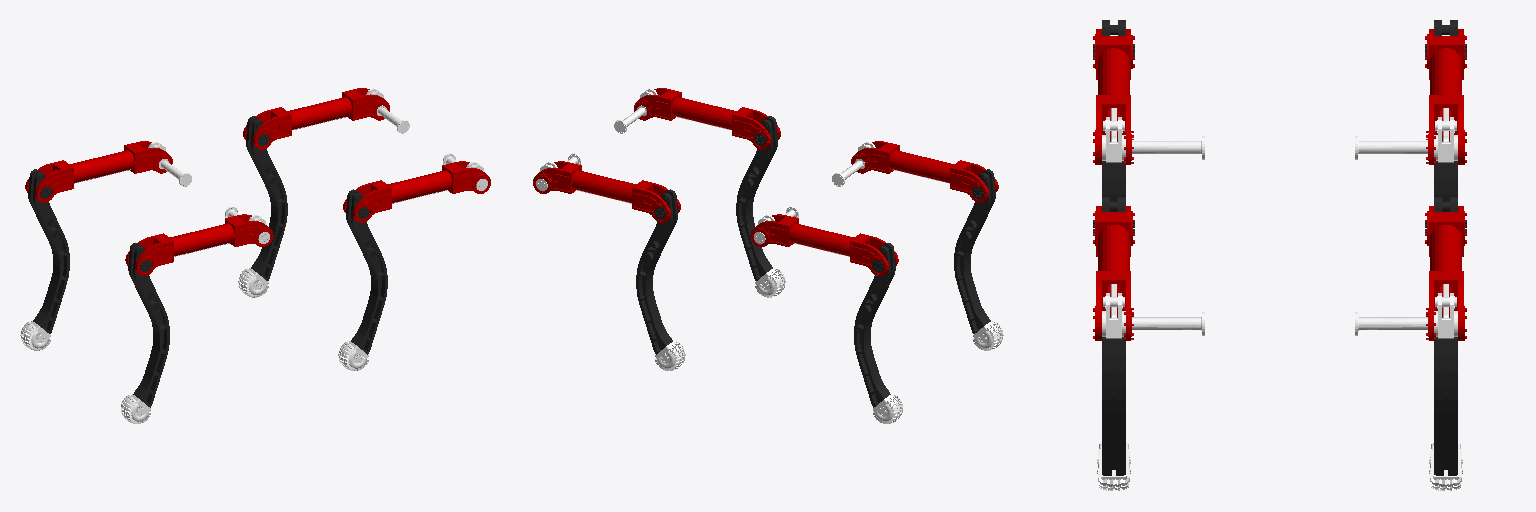
--- What the picture shows (computed from the rendered views, not written in the file) ---
The picture shows the robot from 3 angles, left to right: view 1: azimuth 30°, elevation 25°; view 2: azimuth 150°, elevation 25°; view 3: azimuth 270°, elevation 25°; orthographic projection.
Model aidin8 with 25 links and 24 joints (12 revolute, 12 fixed), rooted at body, posed every joint at zero.
Links seen in each view (by area): view 1: RF_2, RB_2, LF_2, LB_2, RF_3, RB_3, LB_3, LF_3, LB_foot, RF_foot, RB_foot, LF_foot; view 2: LF_2, LB_2, RF_2, RB_2, LF_3, LB_3, RB_3, RF_3, RB_foot, LF_foot, LB_foot, RF_foot; view 3: LB_2, RB_2, RF_2, LF_2, RF_3, LF_3, RF_link1, LF_link1, LB_link1, RB_link1, LB_3, RB_3 (+2 smaller).
Boxes of the visible links, x1,y1,x2,y2 form: RF_2: (343, 161, 490, 222); RB_2: (125, 214, 273, 275); LF_2: (243, 88, 389, 149); LB_2: (25, 141, 172, 202); RF_3: (346, 189, 387, 354); RB_3: (128, 243, 169, 407); LB_3: (28, 169, 69, 333); LF_3: (246, 116, 287, 280); LB_foot: (20, 321, 50, 350); RF_foot: (338, 341, 368, 370); RB_foot: (121, 394, 150, 423); LF_foot: (238, 268, 268, 297); LF_2: (533, 161, 680, 222); LB_2: (750, 214, 898, 275); RF_2: (634, 88, 780, 149); RB_2: (851, 141, 998, 202); LF_3: (636, 189, 677, 354); LB_3: (854, 243, 895, 407); RB_3: (954, 169, 995, 333); RF_3: (736, 116, 777, 280); RB_foot: (973, 321, 1003, 350); LF_foot: (655, 341, 685, 370); LB_foot: (873, 394, 902, 423); RF_foot: (755, 268, 785, 297); LB_2: (1425, 29, 1466, 164); RB_2: (1093, 29, 1134, 164); RF_2: (1093, 206, 1134, 340); LF_2: (1425, 206, 1466, 340); RF_3: (1093, 197, 1134, 475); LF_3: (1425, 197, 1466, 475); RF_link1: (1102, 293, 1204, 338); LF_link1: (1355, 293, 1457, 338); LB_link1: (1355, 117, 1457, 162); RB_link1: (1102, 117, 1204, 162); LB_3: (1425, 20, 1466, 211); RB_3: (1093, 20, 1134, 211).
Bounding box of the posed robot: 1.07 × 0.5794 × 0.5016 m (x, y, z).
20 mesh visuals loaded from 12 distinct referenced files (7 binary STL); not drawn: 5 (reference not matched to a file when rendering).

robot.urdf — aidin8:
<?xml version="1.0" ?>
<robot name="aidin8">
  <material name="black">
    <color rgba="0.0 0.0 0.0 1.0"/>
  </material>
  <material name="blue">
    <color rgba="0.0 0.0 0.8 1.0"/>
  </material>
  <material name="green">
    <color rgba="0.0 0.8 0.0 1.0"/>
  </material>
  <material name="grey">
    <color rgba="0.2 0.2 0.2 1.0"/>
  </material>
  <material name="silver">
    <color rgba="0.913725490196 0.913725490196 0.847058823529 1.0"/>
  </material>
  <material name="orange">
    <color rgba="1.0 0.423529411765 0.0392156862745 1.0"/>
  </material>
  <material name="brown">
    <color rgba="0.870588235294 0.811764705882 0.764705882353 1.0"/>
  </material>
  <material name="red">
    <color rgba="0.8 0.0 0.0 1.0"/>
  </material>
  <material name="yellow">
    <color rgba="0.8 0.8 0.0 1.0"/>
  </material>
  <material name="white">
    <color rgba="1.0 1.0 1.0 1.0"/>
  </material>

<!--////////////////////////////////   Body    ////////////////////////////////-->
  <link name="body">
    <inertial>
      <mass value="12.3188555"/>
      <origin xyz="0.00142 -0.00222 -0.04319" rpy="0 0 0"/>
      <inertia ixx="0.1104557116459" ixy="0.0002742627834" ixz="-0.0007826805716" iyy="0.2925866863396" iyz="-0.0018014327089" izz="0.3259809298915"/>
    </inertial>
<!--    <collision name="body_1">-->
<!--      <origin xyz="0.4174 0     0" rpy="0 0 0"/>-->
<!--      <geometry>-->
<!--        <box size="0.026 0.318 0.207"/>-->
<!--      </geometry>-->
<!--    </collision>-->
<!--    <collision name="body_2">-->
<!--      <origin xyz="-0.4174  0      0" rpy="0 0 0"/>-->
<!--      <geometry>-->
<!--        <box size="0.026 0.318 0.207"/>-->
<!--      </geometry>-->
<!--    </collision>-->
<!--    <collision name="body_3">-->
<!--      <origin xyz="0    0.119 0.085" rpy="0      1.57079 0"/>-->
<!--      <geometry>-->
<!--        <cylinder radius="0.0102" length="0.8848"/>-->
<!--      </geometry>-->
<!--    </collision>-->
<!--    <collision name="body_4">-->
<!--      <origin xyz="0     0.119 -0.085" rpy="0      1.57079 0"/>-->
<!--      <geometry>-->
<!--        <cylinder radius="0.0102" length="0.8848"/>-->
<!--      </geometry>-->
<!--    </collision>-->
<!--    <collision name="body_5">-->
<!--      <origin xyz="0    -0.119  0.085" rpy="0      1.57079 0"/>-->
<!--      <geometry>-->
<!--        <cylinder radius="0.0102" length="0.8848"/>-->
<!--      </geometry>-->
<!--    </collision>-->
<!--    <collision name="body_6">-->
<!--      <origin xyz="0    -0.119 -0.085" rpy="0      1.57079 0"/>-->
<!--      <geometry>-->
<!--        <cylinder radius="0.0102" length="0.8848"/>-->
<!--      </geometry>-->
<!--    </collision>-->
    <collision name="body_7" >
      <origin xyz="0 0 0" rpy="0 0 0"/>
      <geometry>
        <mesh filename="../meshes/meshes_surface/Body_AIDIN8.STL" scale="1 1 1"/>
      </geometry>
    </collision>
    <visual name="body_visual">
      <origin xyz="0 0 0" rpy="0 0 0"/>
      <geometry>
        <mesh filename="../meshes/meshes_surface/Body_AIDIN8.STL" scale="1 1 1"/>
      </geometry>
      <material name="silver"/>
    </visual>
  </link>

<!--//////////////////////////////// RF LINKS /////////////////////////////////-->

  <link name="RF_1">
    <inertial>
      <mass value="6.3549628"/>
      <origin xyz="2.22e-03 -7.00e-05 -3.49e-02" rpy="0 0 0"/>
      <inertia ixx="0.0268838092963" ixy="-0.0000090031909" ixz="0.0010319405579" iyy="0.0388589753376" iyz="0.0000168509340" izz="0.0189992476926"/>
    </inertial>
    <collision name="RF_col1">
      <origin xyz="0      0     -0.0507" rpy="0 0 0"/>
      <geometry>
        <cylinder radius="0.0535" length="0.2334"/>
      </geometry>
    </collision>
    <collision name="RF_col2">
      <origin xyz="0.0083 0     0" rpy="0      1.57079 0"/>
      <geometry>
        <cylinder radius="0.0535" length="0.1984"/>
      </geometry>
    </collision>
    <visual name="RF_1_vis">
      <origin xyz="0 0 0" rpy="0 0 0"/>
      <geometry>
        <mesh filename="../meshes/meshes_surface/Leg_Scapular_RF_stp_v2.STL" scale="1 1 1"/>
      </geometry>
      <material name="black"/>
    </visual>
  </link>

  <link name="RF_2">
    <inertial>
      <mass value="0.8592967"/>
      <origin xyz="1.75316e-01 -1.49727e-02 1.2510e-04" rpy="0 0 0"/>
      <inertia ixx="0.0007326198866" ixy="0.0000038940144" ixz="-0.0000188175364" iyy="0.0157450190455" iyz="0.0000015777233" izz="0.0157308802469"/>
    </inertial>
    <collision name="RF_2_col">
      <origin xyz="0 0 0" rpy="0 0 0"/>
      <geometry>
        <mesh filename="../meshes/meshes_surface/Leg_Hip_right_stp.STL" scale="1 1 1"/>
      </geometry>
    </collision>
<!--    <collision name="RF_col3">-->
<!--      <origin xyz="0 0 0" rpy="0 0 0"/>-->
<!--      <geometry>-->
<!--        <cylinder radius="0.027" length="0.054"/>-->
<!--      </geometry>-->
<!--    </collision>-->
<!--    <collision name="RF_col4">-->
<!--      <origin xyz="0.055 -0.021  0" rpy="0 0 0"/>-->
<!--      <geometry>-->
<!--        <box size="0.06 0.06 0.054"/>-->
<!--      </geometry>-->
<!--    </collision>-->
<!--    <collision name="RF_col5">-->
<!--      <origin xyz="0.175 -0.021  0" rpy="0      1.57079 0"/>-->
<!--      <geometry>-->
<!--        <cylinder radius="0.025" length="0.18"/>-->
<!--      </geometry>-->
<!--    </collision>-->
<!--    <collision name="RF_col6">-->
<!--      <origin xyz="0.295 -0.021  0" rpy="0 0 0"/>-->
<!--      <geometry>-->
<!--        <box size="0.06 0.06 0.054"/>-->
<!--      </geometry>-->
<!--    </collision>-->
<!--    <collision name="RF_col7">-->
<!--      <origin xyz="0.35   0     0.0245" rpy="0 0 0"/>-->
<!--      <geometry>-->
<!--        <cylinder radius="0.027" length="0.011"/>-->
<!--      </geometry>-->
<!--    </collision>-->
<!--    <collision name="RF_col8">-->
<!--      <origin xyz="0.35    0     -0.0245" rpy="0 0 0"/>-->
<!--      <geometry>-->
<!--        <cylinder radius="0.027" length="0.011"/>-->
<!--      </geometry>-->
<!--    </collision>-->
    <visual name="RF_2_vis">
      <origin xyz="0 0 0" rpy="0 0 0"/>
      <geometry>
        <mesh filename="../meshes/meshes_surface/Leg_Hip_right_stp.STL" scale="1 1 1"/>
      </geometry>
      <material name="red"/>
    </visual>
  </link>

  <link name="RF_3">
    <inertial>
      <mass value="1.0898094"/>
      <origin xyz="0.1800139 0.0211379 0" rpy="0 0 0"/>
      <inertia ixx="0.0011170724779" ixy="0.0013927896194" ixz="-0.0000000006471" iyy="0.028702148538" iyz="-0.0000000000318" izz="0.0294755353979"/>
    </inertial>
    <collision name="RF_col9">
      <origin rpy="0       0       0.41887" xyz="0.10075  0.02555  0"/>
      <geometry>
        <box size="0.17 0.035 0.036"/>
      </geometry>
    </collision>
    <collision name="RF_col10">
      <origin rpy="0       0       0.05925" xyz="0.21091  0.0609   0"/>
      <geometry>
        <box size="0.0771692 0.035 0.036"/>
      </geometry>
    </collision>
    <collision name="RF_col11">
      <origin rpy="0       0      -0.34906" xyz="0.32234  0.03518  0"/>
      <geometry>
        <box size="0.17 0.035 0.036"/>
      </geometry>
    </collision>
<!--    <collision name="RF_col9">-->
<!--      <origin rpy="0  0  0" xyz="0  0  0"/>-->
<!--      <geometry>-->
<!--        <mesh filename="../meshes/meshes_surface/Leg_Knee_stp.STL" scale="1 1 1"/>-->
<!--      </geometry>-->
<!--    </collision>-->
    <visual name="RF_3_vis">
      <origin xyz="0 0 0" rpy="0 0 0"/>
<!--      <geometry>-->
<!--        <mesh filename="../meshes/meshes_surface/leg_foot.STL" scale="1 1 1"/>-->
<!--      </geometry>-->
      <geometry>
        <mesh filename="../meshes/meshes_surface/Leg_Knee_stp.STL" scale="1 1 1"/>
      </geometry>
      <material name="grey"/>
    </visual>
  </link>

  <link name="RF_link1">
    <inertial>
      <mass value="0.356529"/>
      <origin xyz="0.00726 -0.00049 -0.03152" rpy="0 0 0"/>
      <inertia ixx="0.0009737671712" ixy="0.0000021895727" ixz="0.0000821138402" iyy="0.0010410742162" iyz="-0.0000057093198" izz="0.0001183464867"/>
    </inertial>
    <visual name="RF_link1_vis">
      <origin xyz="0 0 0" rpy="0 0 0"/>
      <geometry>
        <mesh filename="../meshes/meshes_surface/Knee_link1_right_stp.STL" scale="1 1 1"/>
      </geometry>
      <material name="white"/>
    </visual>
  </link>

  <link name="RF_link2">
    <inertial>
      <mass value="0.20931"/>
      <origin xyz="0.175 0    0" rpy="0 0 0"/>
      <inertia ixx="0.00000747991" ixy="0" ixz="0" iyy="0.00238918720" iyz="0" izz="0.00239407889"/>
    </inertial>
    <visual name="RF_link2_vis">
      <origin xyz="0    0    0" rpy="0    0    0"/>
      <geometry>
        <mesh filename="../meshes/meshes_surface/Knee_link2_stp.STL" scale="1 1 1"/>
      </geometry>
      <material name="white"/>
    </visual>
  </link>

  <link name="RF_foot">
    <inertial>
      <mass value="0.01415138"/>
      <inertia ixx="0.0000730244206" ixy="0.0000118580755" ixz="-0.000000000074" iyy="0.000072839443" iyz="-0.0000000000768" izz="0.0000859159859"/>
    </inertial>
    <collision name="RF_col12">
      <origin rpy="0  0  0" xyz="0  0   0"/>
      <geometry>
        <mesh filename="../meshes/meshes_surface/foot.STL" scale="1 1 1"/>
      </geometry>
    </collision>
    <visual name="RF_foot_vis">
      <origin rpy="0  0  0" xyz="0  0   0"/>
      <geometry>
        <mesh filename="../meshes/meshes_surface/foot.STL" scale="1 1 1"/>
      </geometry>
      <material name="white"/>
    </visual>
  </link>

<!--//////////////////////////////// RF JOINTS ////////////////////////////////-->

  <joint name="RFJ1" type="revolute">
    <parent link="body"/>
    <child link="RF_1"/>
    <origin xyz="0.3224 -0.119   0" rpy="-1.57079  0      -1.57079"/>
    <axis xyz="0 0 1"/>
<!--    <limit lower="-0.6981317008" upper="0.6981317008" effort="200.0" velocity="15.5"/>-->
    <limit lower="-0.3" upper="0.3" effort="200.0" velocity="15.5"/>
  </joint>

  <joint name="RFJ2" type="revolute">
    <parent link="RF_1"/>
    <child link="RF_2"/>
    <origin xyz="0.13769 0      0" rpy="-1.58259  1.57079 -1.58259"/>
    <axis xyz="0 0 1"/>
    <limit lower="-3.1" upper="3.1" effort="200.0" velocity="15.5"/>
  </joint>

  <joint name="RFJ3" type="revolute">
    <parent link="RF_2"/>
    <child link="RF_3"/>
    <origin xyz="0.35 0   0" rpy="0      0      1.57079"/>
    <axis xyz="0 0 1"/>
<!--    <limit lower="-1.047197551" upper="1.570796327" effort="200.0" velocity="15.5"/>-->
    <limit lower="-1.04" upper="1.1" effort="200.0" velocity="15.5"/>
  </joint>

  <joint name="RFJ_link1" type="fixed"> <!--revolute -> fixed-->
    <parent link="RF_1"/>
    <child link="RF_link1"/>
    <origin xyz="0.13769 0      0" rpy="-1.57079  0.17453 -1.57079"/>
    <axis xyz="0 0 1"/>
  </joint>

  <joint name="RFJ_link2" type="fixed"> <!--revolute -> fixed-->
    <parent link="RF_2"/>
    <child link="RF_link2"/>
    <origin xyz="0    0    0" rpy="0    0    0"/>
    <axis xyz="0 0 1"/>
  </joint>

  <joint name="RFJ_foot" type="fixed" dont_collapse="true"> <!--revolute -> fixed-->
    <parent link="RF_3"/>
    <child link="RF_foot"/>
    <origin rpy="0 0 0" xyz="0.4 0 0"/>
    <axis xyz="0 0 1"/>
  </joint>

<!--//////////////////////////////// LF LINKS /////////////////////////////////-->

  <link name="LF_1">
    <inertial>
      <mass value="6.3549628"/>
      <origin xyz="0.00223 -0.00011 -0.03491" rpy="0 0 0"/>
      <inertia ixx="0.0268822823205" ixy="0.0000315138420" ixz="-0.0010398645982" iyy="0.0388571979436" iyz="-0.0000013704590" izz="0.01899889911081"/>
    </inertial>
    <collision name="LF_col1">
      <origin xyz="0      0     -0.0507" rpy="0 0 0"/>
      <geometry>
        <cylinder radius="0.0535" length="0.2334"/>
      </geometry>
    </collision>
    <collision name="LF_col2">
      <origin xyz="0.0083 0     0" rpy="0      1.57079 0"/>
      <geometry>
        <cylinder radius="0.0535" length="0.1984"/>
      </geometry>
    </collision>
    <visual name="LF_1_vis">
      <origin xyz="0 0 0" rpy="0 0 0"/>
      <geometry>
        <mesh filename="../meshes/meshes_surface/Leg_Scapular_LF_stp_v2.STL" scale="1 1 1"/>
      </geometry>
      <material name="black"/>
    </visual>
  </link>

  <link name="LF_2">
    <inertial>
      <mass value="0.8592967"/>
      <origin xyz="1.75316e-01 -1.49727e-02 -1.2510e-04" rpy="0 0 0"/>
      <inertia ixx="0.0007326198857" ixy="0.0000038940144" ixz="0.0000188178556" iyy="0.0157450190446" iyz="-0.0000015777889" izz="0.0157308802467"/>
    </inertial>
    <collision name="LF_2_col">
      <origin xyz="0 0 0" rpy="0 0 0"/>
      <geometry>
        <mesh filename="../meshes/meshes_surface/Leg_Hip_left_stp.STL" scale="1 1 1"/>
      </geometry>
    </collision>
<!--    <collision name="LF_col3">-->
<!--      <origin xyz="0 0 0" rpy="0 0 0"/>-->
<!--      <geometry>-->
<!--        <cylinder radius="0.027" length="0.054"/>-->
<!--      </geometry>-->
<!--    </collision>-->
<!--    <collision name="LF_col4">-->
<!--      <origin xyz="0.055 -0.021  0" rpy="0 0 0"/>-->
<!--      <geometry>-->
<!--        <box size="0.06 0.06 0.054"/>-->
<!--      </geometry>-->
<!--    </collision>-->
<!--    <collision name="LF_col5">-->
<!--      <origin xyz="0.175 -0.021  0" rpy="0      1.57079 0"/>-->
<!--      <geometry>-->
<!--        <cylinder radius="0.025" length="0.18"/>-->
<!--      </geometry>-->
<!--    </collision>-->
<!--    <collision name="LF_col6">-->
<!--      <origin xyz="0.295 -0.021  0" rpy="0 0 0"/>-->
<!--      <geometry>-->
<!--        <box size="0.06 0.06 0.054"/>-->
<!--      </geometry>-->
<!--    </collision>-->
<!--    <collision name="LF_col7">-->
<!--      <origin xyz="0.35   0     0.0245" rpy="0 0 0"/>-->
<!--      <geometry>-->
<!--        <cylinder radius="0.027" length="0.011"/>-->
<!--      </geometry>-->
<!--    </collision>-->
<!--    <collision name="LF_col8">-->
<!--      <origin xyz="0.35    0     -0.0245" rpy="0 0 0"/>-->
<!--      <geometry>-->
<!--        <cylinder radius="0.027" length="0.011"/>-->
<!--      </geometry>-->
<!--    </collision>-->
    <visual name="LF_2_vis">
      <origin xyz="0 0 0" rpy="0 0 0"/>
      <geometry>
        <mesh filename="../meshes/meshes_surface/Leg_Hip_left_stp.STL" scale="1 1 1"/>
      </geometry>
      <material name="red"/>
    </visual>
  </link>

  <link name="LF_3">
    <inertial>
      <mass value="1.0898094"/>
      <origin xyz="0.1800139 0.0211379 0" rpy="0 0 0"/>
      <inertia ixx="0.0011170724779" ixy="0.0013927896194" ixz="-0.0000000006471" iyy="0.028702148538" iyz="-0.0000000000318" izz="0.0294755353979"/>
    </inertial>
    <collision name="LF_col9">
      <origin rpy="0       0       0.41887" xyz="0.10075  0.02555  0"/>
      <geometry>
        <box size="0.17 0.035 0.036"/>
      </geometry>
    </collision>
    <collision name="LF_col10">
      <origin rpy="0       0       0.05925" xyz="0.21091  0.0609   0"/>
      <geometry>
        <box size="0.0771692 0.035 0.036"/>
      </geometry>
    </collision>
    <collision name="LF_col11">
      <origin rpy="0       0      -0.34906" xyz="0.32234  0.03518  0"/>
      <geometry>
        <box size="0.17 0.035 0.036"/>
      </geometry>
    </collision>
<!--    <collision name="LF_col9">-->
<!--      <origin rpy="0  0  0" xyz="0  0  0"/>-->
<!--      <geometry>-->
<!--        <mesh filename="../meshes/meshes_surface/Leg_Knee_stp.STL" scale="1 1 1"/>-->
<!--      </geometry>-->
<!--    </collision>-->
    <visual name="LF_3_vis">
      <origin xyz="0 0 0" rpy="0 0 0"/>
<!--      <geometry>-->
<!--        <mesh filename="../meshes/meshes_surface/leg_foot.STL" scale="1 1 1"/>-->
<!--      </geometry>-->
      <geometry>
        <mesh filename="../meshes/meshes_surface/Leg_Knee_stp.STL" scale="1 1 1"/>
      </geometry>
      <material name="grey"/>
    </visual>
  </link>

  <link name="LF_link1">
    <inertial>
      <mass value="0.356529"/>
      <origin xyz="0.00728 -0.00049  0.03154" rpy="0 0 0"/>
      <inertia ixx="0.0009733125313" ixy="0.0000022519068" ixz="-0.0000814612402" iyy="0.0010405526310" iyz="0.0000057129200" izz="0.0001182849391"/>
    </inertial>
    <visual name="LF_link1_vis">
      <origin xyz="0 0 0" rpy="0 0 0"/>
      <geometry>
        <mesh filename="../meshes/meshes_surface/Knee_link1_left_stp.STL" scale="1 1 1"/>
      </geometry>
      <material name="white"/>
    </visual>
  </link>

  <link name="LF_link2">
    <inertial>
      <mass value="0.20931"/>
      <origin xyz="0.175 0    0" rpy="0 0 0"/>
      <inertia ixx="0.00000747991" ixy="0" ixz="0" iyy="0.00238918720" iyz="0" izz="0.00239407889"/>
    </inertial>
    <visual name="LF_link2_vis">
      <origin xyz="0    0    0" rpy="0    0    0"/>
      <geometry>
        <mesh filename="../meshes/meshes_surface/Knee_link2_stp.STL" scale="1 1 1"/>
      </geometry>
      <material name="white"/>
    </visual>
  </link>

  <link name="LF_foot">
    <inertial>
      <mass value="0.01415138"/>
      <inertia ixx="0.0000730244206" ixy="0.0000118580755" ixz="-0.000000000074" iyy="0.000072839443" iyz="-0.0000000000768" izz="0.0000859159859"/>
    </inertial>
    <collision name="LF_col12">
      <origin rpy="0  0  0" xyz="0  0   0"/>
      <geometry>
        <mesh filename="../meshes/meshes_surface/foot.STL" scale="1 1 1"/>
      </geometry>
    </collision>
    <visual name="LF_foot_vis">
      <origin rpy="0  0  0" xyz="0  0   0"/>
      <geometry>
        <mesh filename="../meshes/meshes_surface/foot.STL" scale="1 1 1"/>
      </geometry>
      <material name="white"/>
    </visual>
  </link>

<!--//////////////////////////////// LF JOINTS ////////////////////////////////-->

  <joint name="LFJ1" type="revolute">
    <parent link="body"/>
    <child link="LF_1"/>
    <origin xyz="0.3224 0.119  0" rpy="1.57079 0      1.57079"/>
    <axis xyz="0 0 1"/>
    <limit lower="-0.3" upper="0.3" effort="200.0" velocity="15.5"/>
<!--    <limit lower="-0.6981317008" upper="0.6981317008" effort="200.0" velocity="15.5"/>-->
  </joint>

  <joint name="LFJ2" type="revolute">
    <parent link="LF_1"/>
    <child link="LF_2"/>
    <origin xyz="0.13769 0      0" rpy="-1.559    1.57079  1.58259"/>
    <axis xyz="0 0 1"/>
    <limit lower="-3.1" upper="3.1" effort="200.0" velocity="15.5"/>
  </joint>

  <joint name="LFJ3" type="revolute">
    <parent link="LF_2"/>
    <child link="LF_3"/>
    <origin xyz="0.35 0   0" rpy="0      0      1.57079"/>
    <axis xyz="0 0 1"/>
<!--    <limit lower="-1.047197551" upper="1.570796327" effort="200.0" velocity="15.5"/>-->
    <limit lower="-1.04" upper="1.1" effort="200.0" velocity="15.5"/>
  </joint>

  <joint name="LFJ_link1" type="fixed"> <!--revolute -> fixed-->
    <parent link="LF_1"/>
    <child link="LF_link1"/>
    <origin xyz="0.13769 0      0" rpy="-1.57079  0.17453  1.57079"/>
    <axis xyz="0 0 1"/>
  </joint>

  <joint name="LFJ_link2" type="fixed"> <!--revolute -> fixed-->
    <parent link="LF_2"/>
    <child link="LF_link2"/>
    <origin xyz="0    0    0" rpy="0    0    0"/>
    <axis xyz="0 0 1"/>
  </joint>

  <joint name="LFJ_foot" type="fixed" dont_collapse="true"> <!--revolute -> fixed-->
    <origin rpy="0 0 0" xyz="0.4 0 0"/>
    <parent link="LF_3"/>
    <child link="LF_foot"/>
  </joint>

<!--//////////////////////////////// LB LINKS /////////////////////////////////-->

  <link name="LB_1">
    <inertial>
      <mass value="6.3549628"/>
      <origin xyz="2.22e-03 -7.00e-05  3.49e-02" rpy="0 0 0"/>
      <inertia ixx="0.0268838092963" ixy="0.0000090031909" ixz="-0.0010319405579" iyy="0.0388589753376" iyz="0.0000168509340" izz="0.0189992476926"/>
    </inertial>
    <collision name="LB_col1">
      <origin xyz="0     0     0.0507" rpy="0 0 0"/>
      <geometry>
        <cylinder radius="0.0535" length="0.2334"/>
      </geometry>
    </collision>
    <collision name="LB_col2">
      <origin xyz="0.0083 0     0" rpy="0      1.57079 0"/>
      <geometry>
        <cylinder radius="0.0535" length="0.1984"/>
      </geometry>
    </collision>
    <visual name="LB_1_vis">
      <origin xyz="0 0 0" rpy="0 0 0"/>
      <geometry>
        <mesh filename="../meshes/meshes_surface/Leg_Scapular_LR_stp_v2.STL" scale="1 1 1"/>
      </geometry>
      <material name="black"/>
    </visual>
  </link>

  <link name="LB_2">
    <inertial>
      <mass value="0.8592967"/>
      <origin xyz="1.75316e-01 -1.49727e-02 -1.2510e-04" rpy="0 0 0"/>
      <inertia ixx="0.0007326198857" ixy="0.0000038940144" ixz="0.0000188178556" iyy="0.0157450190446" iyz="-0.0000015777889" izz="0.0157308802467"/>
    </inertial>
    <collision name="LB_2_col">
      <origin xyz="0 0 0" rpy="0 0 0"/>
      <geometry>
        <mesh filename="../meshes/meshes_surface/Leg_Hip_left_stp.STL" scale="1 1 1"/>
      </geometry>
    </collision>
<!--    <collision name="LB_col3">-->
<!--      <origin xyz="0 0 0" rpy="0 0 0"/>-->
<!--      <geometry>-->
<!--        <cylinder radius="0.027" length="0.054"/>-->
<!--      </geometry>-->
<!--    </collision>-->
<!--    <collision name="LB_col4">-->
<!--      <origin xyz="0.055 -0.021  0" rpy="0 0 0"/>-->
<!--      <geometry>-->
<!--        <box size="0.06 0.06 0.054"/>-->
<!--      </geometry>-->
<!--    </collision>-->
<!--    <collision name="LB_col5">-->
<!--      <origin xyz="0.175 -0.021  0" rpy="0      1.57079 0"/>-->
<!--      <geometry>-->
<!--        <cylinder radius="0.025" length="0.18"/>-->
<!--      </geometry>-->
<!--    </collision>-->
<!--    <collision name="LB_col6">-->
<!--      <origin xyz="0.295 -0.021  0" rpy="0 0 0"/>-->
<!--      <geometry>-->
<!--        <box size="0.06 0.06 0.054"/>-->
<!--      </geometry>-->
<!--    </collision>-->
<!--    <collision name="LB_col7">-->
<!--      <origin xyz="0.35   0     0.0245" rpy="0 0 0"/>-->
<!--      <geometry>-->
<!--        <cylinder radius="0.027" length="0.011"/>-->
<!--      </geometry>-->
<!--    </collision>-->
<!--    <collision name="LB_col8">-->
<!--      <origin xyz="0.35    0     -0.0245" rpy="0 0 0"/>-->
<!--      <geometry>-->
<!--        <cylinder radius="0.027" length="0.011"/>-->
<!--      </geometry>-->
<!--    </collision>-->
    <visual name="LB_2_vis">
      <origin xyz="0 0 0" rpy="0 0 0"/>
      <geometry>
        <mesh filename="../meshes/meshes_surface/Leg_Hip_left_stp.STL" scale="1 1 1"/>
      </geometry>
      <material name="red"/>
    </visual>
  </link>

  <link name="LB_3">
    <inertial>
      <mass value="1.0898094"/>
      <origin xyz="0.1800139 0.0211379 0" rpy="0 0 0"/>
      <inertia ixx="0.0011170724779" ixy="0.0013927896194" ixz="-0.0000000006471" iyy="0.028702148538" iyz="-0.0000000000318" izz="0.0294755353979"/>
    </inertial>
    <collision name="RB_col9">
      <origin rpy="0       0       0.41887" xyz="0.10075  0.02555  0"/>
      <geometry>
        <box size="0.17 0.035 0.036"/>
      </geometry>
    </collision>
    <collision name="RB_col10">
      <origin rpy="0       0       0.05925" xyz="0.21091  0.0609   0"/>
      <geometry>
        <box size="0.0771692 0.035 0.036"/>
      </geometry>
    </collision>
    <collision name="RB_col11">
      <origin rpy="0       0      -0.34906" xyz="0.32234  0.03518  0"/>
      <geometry>
        <box size="0.17 0.035 0.036"/>
      </geometry>
    </collision>
<!--    <collision name="LB_col9">-->
<!--      <origin rpy="0  0  0" xyz="0  0  0"/>-->
<!--        <geometry>-->
<!--          <mesh filename="../meshes/meshes_surface/Leg_Knee_stp.STL" scale="1 1 1"/>-->
<!--        </geometry>-->
<!--    </collision>-->
    <visual name="LB_3_vis">
      <origin xyz="0 0 0" rpy="0 0 0"/>
<!--      <geometry>-->
<!--        <mesh filename="../meshes/meshes_surface/leg_foot.STL" scale="1 1 1"/>-->
<!--      </geometry>-->
      <geometry>
        <mesh filename="../meshes/meshes_surface/Leg_Knee_stp.STL" scale="1 1 1"/>
      </geometry>
      <material name="grey"/>
    </visual>
  </link>

  <link name="LB_link1">
    <inertial>
      <mass value="0.356529"/>
      <origin xyz="0.00728 -0.00049  0.03154" rpy="0 0 0"/>
      <inertia ixx="0.0009733125313" ixy="0.0000022519068" ixz="-0.0000814612402" iyy="0.0010405526310" iyz="0.0000057129200" izz="0.0001182849391"/>
    </inertial>
    <visual name="LB_link1_vis">
      <origin xyz="0 0 0" rpy="0 0 0"/>
      <geometry>
        <mesh filename="../meshes/meshes_surface/Knee_link1_left_stp.STL" scale="1 1 1"/>
      </geometry>
      <material name="white"/>
    </visual>
  </link>

  <link name="LB_link2">
    <inertial>
      <mass value="0.20931"/>
      <origin xyz="0.175 0    0" rpy="0 0 0"/>
      <inertia ixx="0.00000747991" ixy="0" ixz="0" iyy="0.00238918720" iyz="0" izz="0.00239407889"/>
    </inertial>
    <visual name="LB_link2_vis">
      <origin xyz="0    0    0" rpy="0    0    0"/>
      <geometry>
        <mesh filename="../meshes/meshes_surface/Knee_link2_stp.STL" scale="1 1 1"/>
      </geometry>
      <material name="white"/>
    </visual>
  </link>

  <link name="LB_foot">
    <inertial>
      <mass value="0.01415138"/>
      <inertia ixx="0.0000730244206" ixy="0.0000118580755" ixz="-0.000000000074" iyy="0.000072839443" iyz="-0.0000000000768" izz="0.0000859159859"/>
    </inertial>
    <collision name="LB_col12">
      <origin rpy="0  0  0" xyz="0  0   0"/>
      <geometry>
        <mesh filename="../meshes/meshes_surface/foot.STL" scale="1 1 1"/>
      </geometry>
    </collision>
    <visual name="LB_foot_vis">
      <origin rpy="0  0  0" xyz="0  0   0"/>
      <geometry>
        <mesh filename="../meshes/meshes_surface/foot.STL" scale="1 1 1"/>
      </geometry>
      <material name="white"/>
    </visual>
  </link>

<!--//////////////////////////////// LB JOINTS ////////////////////////////////-->

  <joint name="LBJ1" type="revolute">
    <parent link="body"/>
    <child link="LB_1"/>
    <origin xyz="-0.3224  0.119   0" rpy="1.57079 0      1.57079"/>
    <axis xyz="0 0 1"/>
    <limit lower="-0.3" upper="0.3" effort="200.0" velocity="15.5"/>
<!--    <limit lower="-0.6981317008" upper="0.6981317008" effort="200.0" velocity="15.5"/>-->
  </joint>

  <joint name="LBJ2" type="revolute">
    <parent link="LB_1"/>
    <child link="LB_2"/>
    <origin xyz="0.13769 0      0" rpy="-1.559    1.57079  1.58259"/>
    <axis xyz="0 0 1"/>
    <limit lower="-3.1" upper="3.1" effort="200.0" velocity="15.5"/>
  </joint>

  <joint name="LBJ3" type="revolute">
    <parent link="LB_2"/>
    <child link="LB_3"/>
    <origin xyz="0.35 0   0" rpy="0      0      1.57079"/>
    <axis xyz="0 0 1"/>
<!--    <limit lower="-1.047197551" upper="1.570796327" effort="200.0" velocity="15.5"/>-->
    <limit lower="-1.04" upper="1.1" effort="200.0" velocity="15.5"/>
  </joint>

  <joint name="LBJ_link1" type="fixed"> <!--revolute -> fixed-->
    <parent link="LB_1"/>
    <child link="LB_link1"/>
    <origin xyz="0.13769 0      0" rpy="-1.57079  0.17453  1.57079"/>
    <axis xyz="0 0 1"/>
  </joint>

  <joint name="LBJ_link2" type="fixed"> <!--revolute -> fixed-->
    <parent link="LB_2"/>
    <child link="LB_link2"/>
    <origin xyz="0    0    0" rpy="0    0    0"/>
    <axis xyz="0 0 1"/>
  </joint>

  <joint name="LBJ_foot" type="fixed" dont_collapse="true"> <!--revolute -> fixed-->
    <origin rpy="0 0 0" xyz="0.4 0 0"/>
    <parent link="LB_3"/>
    <child link="LB_foot"/>
    <axis xyz="0 0 1"/>
  </joint>

<!--//////////////////////////////// RB LINKS /////////////////////////////////-->

  <link name="RB_1">
    <inertial>
      <mass value="6.3549628"/>
      <origin xyz="0.00223 0.00011 0.03491" rpy="0 0 0"/>
      <inertia ixx="0.0268822823505" ixy="-0.0000315138420" ixz="-0.0010398645982" iyy="0.0388571979436" iyz="-0.0000013704590" izz="0.0189988991081"/>
    </inertial>
    <collision name="RB_col1">
      <origin xyz="0     0     0.0507" rpy="0 0 0"/>
<!--      <geometry>-->
<!--        <mesh filename="../meshes/meshes_surface/Leg_Scapular_RR_stp_v2.STL" scale="1 1 1"/>-->
<!--      </geometry>-->
      <geometry>
        <cylinder radius="0.0535" length="0.2334"/>
      </geometry>
    </collision>
    <collision name="RB_col2">
      <origin xyz="0.0083 0     0" rpy="0      1.57079 0"/>
      <geometry>
        <cylinder radius="0.0535" length="0.1984"/>
      </geometry>
    </collision>
    <visual name="RB_1_vis">
      <origin xyz="0 0 0" rpy="0 0 0"/>
      <geometry>
        <mesh filename="../meshes/meshes_surface/Leg_Scapular_RR_stp_v2.STL" scale="1 1 1"/>
      </geometry>
      <material name="black"/>
    </visual>
  </link>

  <link name="RB_2">
    <inertial>
      <mass value="0.8592967"/>
      <origin xyz="1.75316e-01 -1.49727e-02 1.2510e-04" rpy="0 0 0"/>
      <inertia ixx="0.0007326198866" ixy="0.0000038940144" ixz="-0.0000188175364" iyy="0.0157450190455" iyz="0.0000015777233" izz="0.0157308802469"/>
    </inertial>
  <collision name="RB_2_col">
      <origin xyz="0 0 0" rpy="0 0 0"/>
      <geometry>
        <mesh filename="../meshes/meshes_surface/Leg_Hip_right_stp.STL" scale="1 1 1"/>
      </geometry>
    </collision>
<!--    <collision name="RB_col3">-->
<!--      <origin xyz="0 0 0" rpy="0 0 0"/>-->
<!--      <geometry>-->
<!--        <cylinder radius="0.027" length="0.054"/>-->
<!--      </geometry>-->
<!--    </collision>-->
<!--    <collision name="RB_col4">-->
<!--      <origin xyz="0.055 -0.021  0" rpy="0 0 0"/>-->
<!--      <geometry>-->
<!--        <box size="0.06 0.06 0.054"/>-->
<!--      </geometry>-->
<!--    </collision>-->
<!--    <collision name="RB_col5">-->
<!--      <origin xyz="0.175 -0.021  0" rpy="0      1.57079 0"/>-->
<!--      <geometry>-->
<!--        <cylinder radius="0.025" length="0.18"/>-->
<!--      </geometry>-->
<!--    </collision>-->
<!--    <collision name="RB_col6">-->
<!--      <origin xyz="0.295 -0.021  0" rpy="0 0 0"/>-->
<!--      <geometry>-->
<!--        <box size="0.06 0.06 0.054"/>-->
<!--      </geometry>-->
<!--    </collision>-->
<!--    <collision name="RB_col7">-->
<!--      <origin xyz="0.35   0     0.0245" rpy="0 0 0"/>-->
<!--      <geometry>-->
<!--        <cylinder radius="0.027" length="0.011"/>-->
<!--      </geometry>-->
<!--    </collision>-->
<!--    <collision name="RB_col8">-->
<!--      <origin xyz="0.35    0     -0.0245" rpy="0 0 0"/>-->
<!--      <geometry>-->
<!--        <cylinder radius="0.027" length="0.011"/>-->
<!--      </geometry>-->
<!--    </collision>-->
    <visual name="RB_2_vis">
      <origin xyz="0 0 0" rpy="0 0 0"/>
      <geometry>
        <mesh filename="../meshes/meshes_surface/Leg_Hip_right_stp.STL" scale="1 1 1"/>
      </geometry>
      <material name="red"/>
    </visual>
  </link>

  <link name="RB_3">
    <inertial>
      <mass value="1.0898094"/>
      <origin xyz="0.1800139 0.0211379 0" rpy="0 0 0"/>
      <inertia ixx="0.0011170724779" ixy="0.0013927896194" ixz="-0.0000000006471" iyy="0.028702148538" iyz="-0.0000000000318" izz="0.0294755353979"/>
    </inertial>
    <collision name="RB_col9">
      <origin rpy="0       0       0.41887" xyz="0.10075  0.02555  0"/>
      <geometry>
        <box size="0.17 0.035 0.036"/>
      </geometry>
    </collision>
    <collision name="RB_col10">
      <origin rpy="0       0       0.05925" xyz="0.21091  0.0609   0"/>
      <geometry>
        <box size="0.0771692 0.035 0.036"/>
      </geometry>
    </collision>
    <collision name="RB_col11">
      <origin rpy="0       0      -0.34906" xyz="0.32234  0.03518  0"/>
      <geometry>
        <box size="0.17 0.035 0.036"/>
      </geometry>
    </collision>
<!--    <collision name="RB_col9">-->
<!--      <origin rpy="0  0  0" xyz="0  0  0"/>-->
<!--      <geometry>-->
<!--        <mesh filename="../meshes/meshes_surface/Leg_Knee_stp.STL" scale="1 1 1"/>-->
<!--      </geometry>-->
<!--    </collision>-->
    <visual name="RB_3_vis">
      <origin xyz="0 0 0" rpy="0 0 0"/>
<!--      <geometry>-->
<!--        <mesh filename="../meshes/meshes_surface/leg_foot.STL" scale="1 1 1"/>-->
<!--      </geometry>-->
      <geometry>
        <mesh filename="../meshes/meshes_surface/Leg_Knee_stp.STL" scale="1 1 1"/>
      </geometry>
      <material name="grey"/>
    </visual>
  </link>

  <link name="RB_link1">
    <inertial>
      <mass value="0.356529"/>
      <origin xyz="0.00726 -0.00049 -0.03152" rpy="0 0 0"/>
      <inertia ixx="0.0009737671712" ixy="0.0000021895727" ixz="0.0000821138402" iyy="0.0010410742162" iyz="-0.0000057093198" izz="0.0001183464867"/>
    </inertial>
    <visual name="RB_link1_vis">
      <origin xyz="0 0 0" rpy="0 0 0"/>
      <geometry>
        <mesh filename="../meshes/meshes_surface/Knee_link1_right_stp.STL" scale="1 1 1"/>
      </geometry>
      <material name="white"/>
    </visual>
  </link>

  <link name="RB_link2">
    <inertial>
      <mass value="0.20931"/>
      <origin xyz="0.175 0    0" rpy="0 0 0"/>
      <inertia ixx="0.00000747991" ixy="0" ixz="0" iyy="0.00238918720" iyz="0" izz="0.00239407889"/>
    </inertial>
    <visual name="RB_link2_vis">
      <origin xyz="0    0    0" rpy="0    0    0"/>
      <geometry>
        <mesh filename="../meshes/meshes_surface/Knee_link2_stp.STL" scale="1 1 1"/>
      </geometry>
      <material name="white"/>
    </visual>
  </link>

  <link name="RB_foot">
    <inertial>
      <mass value="0.01415138"/>
      <inertia ixx="0.0000730244206" ixy="0.0000118580755" ixz="-0.000000000074" iyy="0.000072839443" iyz="-0.0000000000768" izz="0.0000859159859"/>
    </inertial>
    <collision name="RB_col12">
      <origin rpy="0  0  0" xyz="0  0   0"/>
      <geometry>
        <mesh filename="../meshes/meshes_surface/foot.STL" scale="1 1 1"/>
      </geometry>
    </collision>
    <visual name="RB_foot_vis">
      <origin rpy="0  0  0" xyz="0  0   0"/>
      <geometry>
        <mesh filename="../meshes/meshes_surface/foot.STL" scale="1 1 1"/>
      </geometry>
      <material name="white"/>
    </visual>
  </link>

<!--//////////////////////////////// RB JOINTS ////////////////////////////////-->

  <joint name="RBJ1" type="revolute">
    <parent link="body"/>
    <child link="RB_1"/>
    <origin xyz="-0.3224 -0.119   0" rpy="-1.57079  0      -1.57079"/>
    <axis xyz="0 0 1"/>
    <limit lower="-0.3" upper="0.3" effort="200.0" velocity="15.5"/>
<!--    <limit lower="-0.6981317008" upper="0.6981317008" effort="200.0" velocity="15.5"/>-->
  </joint>

  <joint name="RBJ2" type="revolute">
    <parent link="RB_1"/>
    <child link="RB_2"/>
    <origin xyz="0.13769 0      0" rpy="-1.58259  1.57079 -1.58259"/>
    <axis xyz="0 0 1"/>
    <limit lower="-3.1" upper="3.1" effort="200.0" velocity="15.5"/>
  </joint>

  <joint name="RBJ3" type="revolute">
    <parent link="RB_2"/>
    <child link="RB_3"/>
    <origin xyz="0.35 0   0" rpy="0      0      1.57079"/>
    <axis xyz="0 0 1"/>
<!--    <limit lower="-1.047197551" upper="1.570796327" effort="200.0" velocity="15.5"/>-->
    <limit lower="-1.04" upper="1.1" effort="200.0" velocity="15.5"/>
  </joint>

  <joint name="RBJ_link1" type="fixed"> <!--revolute -> fixed-->
    <parent link="RB_1"/>
    <child link="RB_link1"/>
    <origin xyz="0.13769 0      0" rpy="-1.57079  0.17453 -1.57079"/>
    <axis xyz="0 0 1"/>
  </joint>

  <joint name="RBJ_link2" type="fixed"> <!--revolute -> fixed-->
    <parent link="RB_2"/>
    <child link="RB_link2"/>
    <origin xyz="0    0    0" rpy="0    0    0"/>
    <axis xyz="0 0 1"/>
  </joint>

  <joint name="RBJ_foot" type="fixed" dont_collapse="true"> <!--revolute -> fixed-->
    <origin rpy="0 0 0" xyz="0.4 0 0"/>
    <parent link="RB_3"/>
    <child link="RB_foot"/>
    <axis xyz="0 0 1"/>
  </joint>

</robot>
